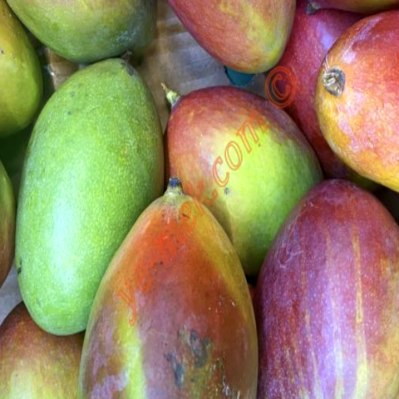mango: (12, 26, 167, 351), (70, 173, 270, 399), (150, 47, 326, 283), (243, 136, 399, 399)
